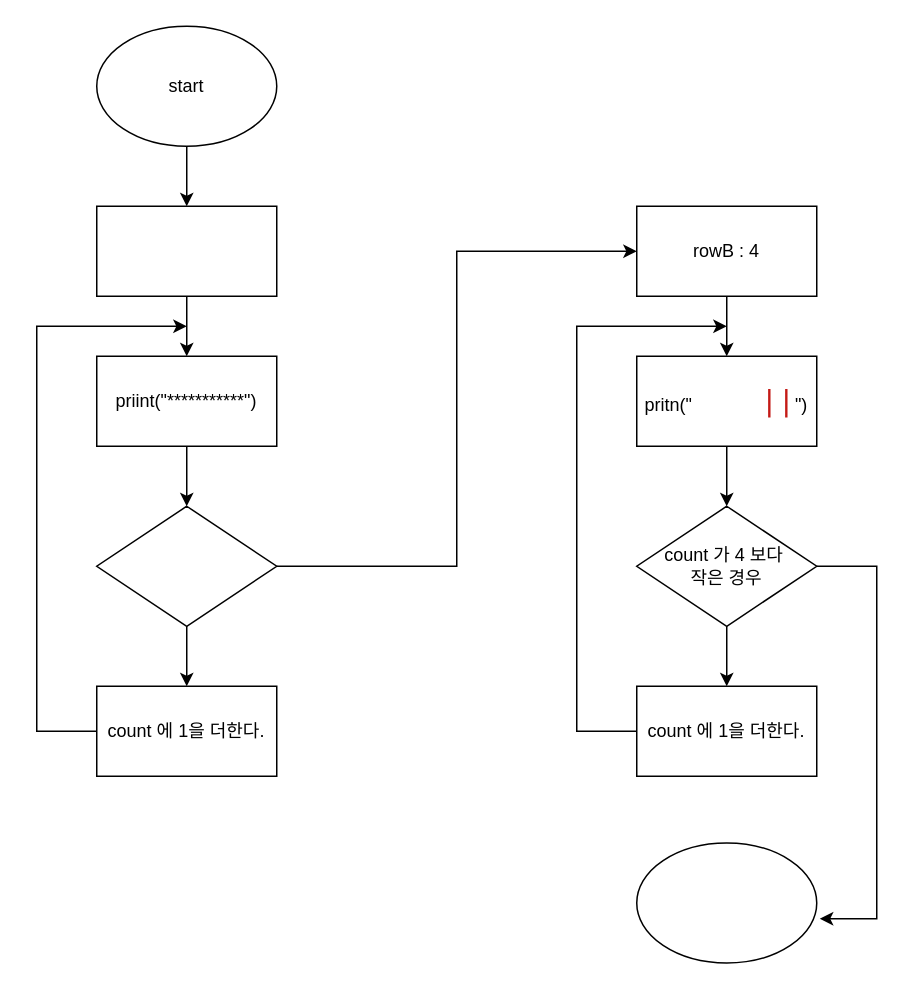
This 915x990 diagram has some shape labels left out. The shapes that lost their labels are listed below. From the top down, each one's centre as x and y in pixels, then its label:
At (x=186, y=250): "rowI : 8".
At (x=186, y=565): "count 가 8보다 작은 경우".
At (x=726, y=902): "end".
